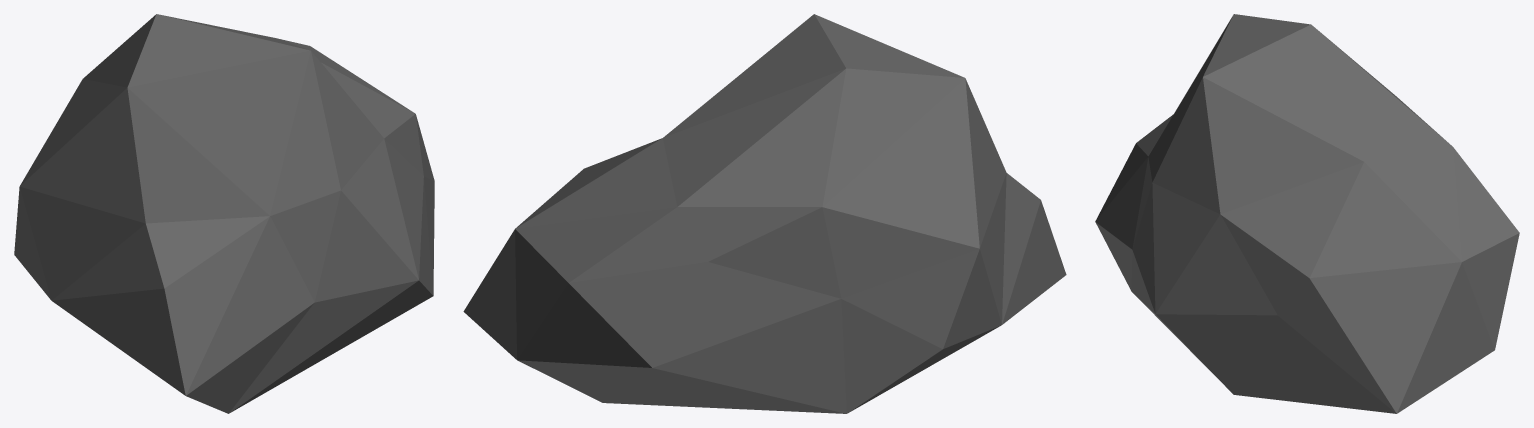
The model's file is stone03.gltf.
3 views of the same model, side by side, from view 1: azimuth 30°, elevation 25°; view 2: azimuth 150°, elevation 25°; view 3: azimuth 270°, elevation 25° (orthographic). The views are drawn at different scales.
Parts seen in each view (by area): view 1: Icosphere; view 2: Icosphere; view 3: Icosphere.
Part boxes in pixels (<box>): Icosphere: <box>14,14,434,413</box>; Icosphere: <box>463,14,1066,413</box>; Icosphere: <box>1095,14,1519,413</box>.
Bounding box in the file's own units: 0.6923 × 0.4879 × 0.6272.
1 material, 1 textured.
